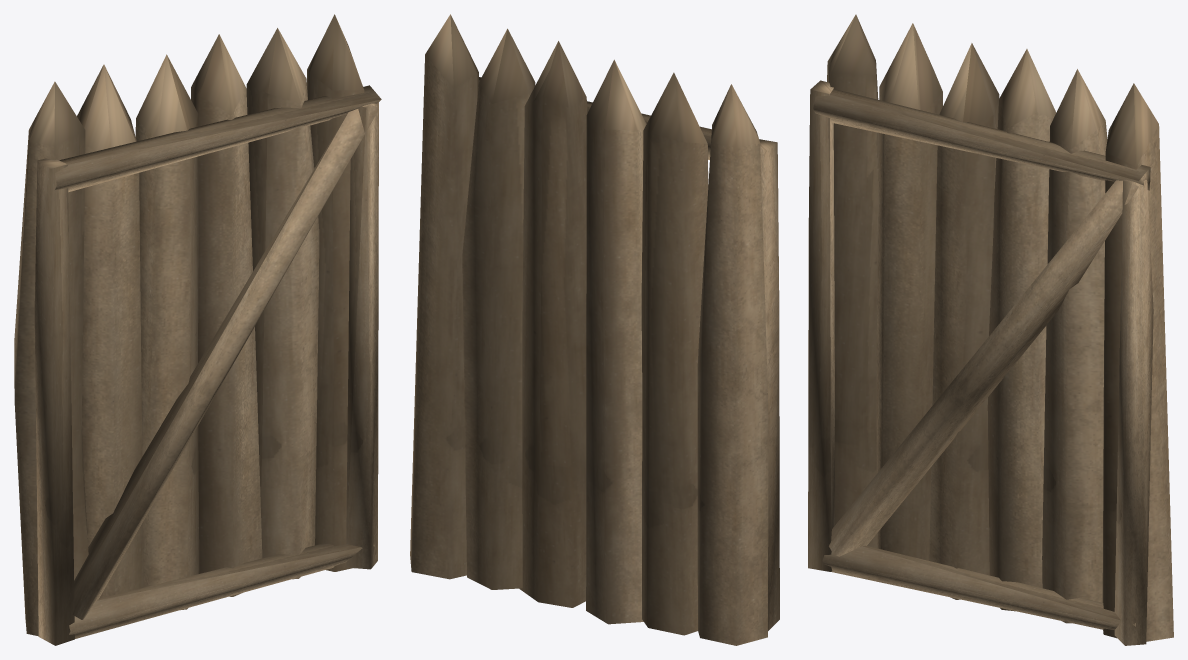
Rendered from GateLeft_LOD2.fbx.
3 renders of one model, left to right at view 1: azimuth 30°, elevation 25°; view 2: azimuth 150°, elevation 25°; view 3: azimuth 330°, elevation 25°, orthographic.
Parts seen in each view (by area): view 1: Gate_Left_LOD2; view 2: Gate_Left_LOD2; view 3: Gate_Left_LOD2.
Part boxes in pixels (x1,y1,x2,y2): Gate_Left_LOD2: (14, 14, 381, 645); Gate_Left_LOD2: (410, 14, 779, 645); Gate_Left_LOD2: (808, 14, 1173, 645).
Bounding box in the file's own units: 13.34 × 19.61 × 2.83.
